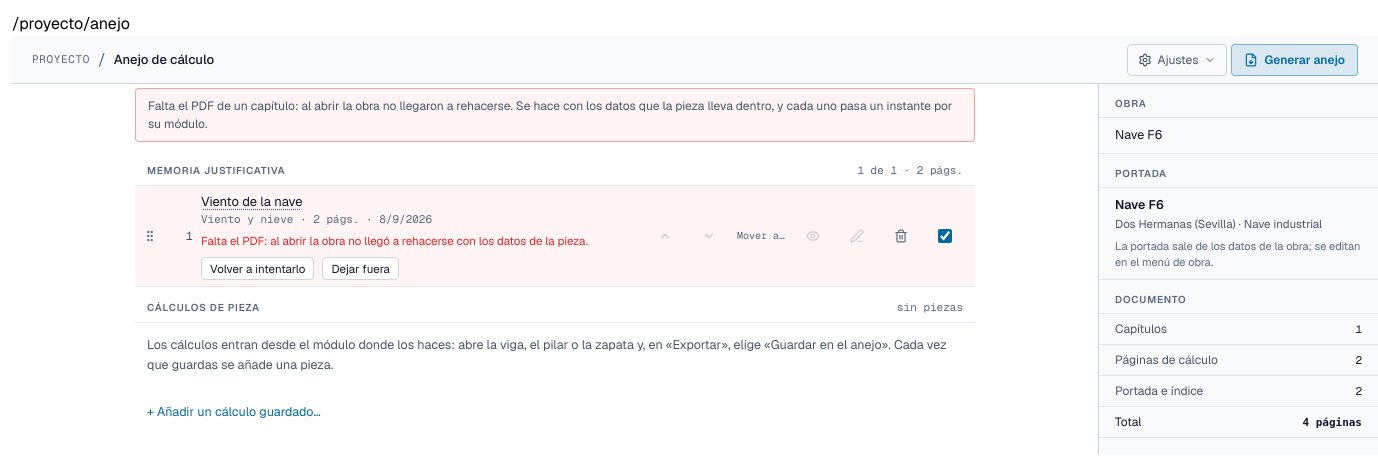
Test: abrir un cálculo del anejo en su módulo › un capítulo de memoria lleva a su módulo sin restaurar nada
What coordinates should you click on to do the following:
click the button "Viento de la nave"
I would click on:
 (252, 201)
Its box is [201,192,302,211].
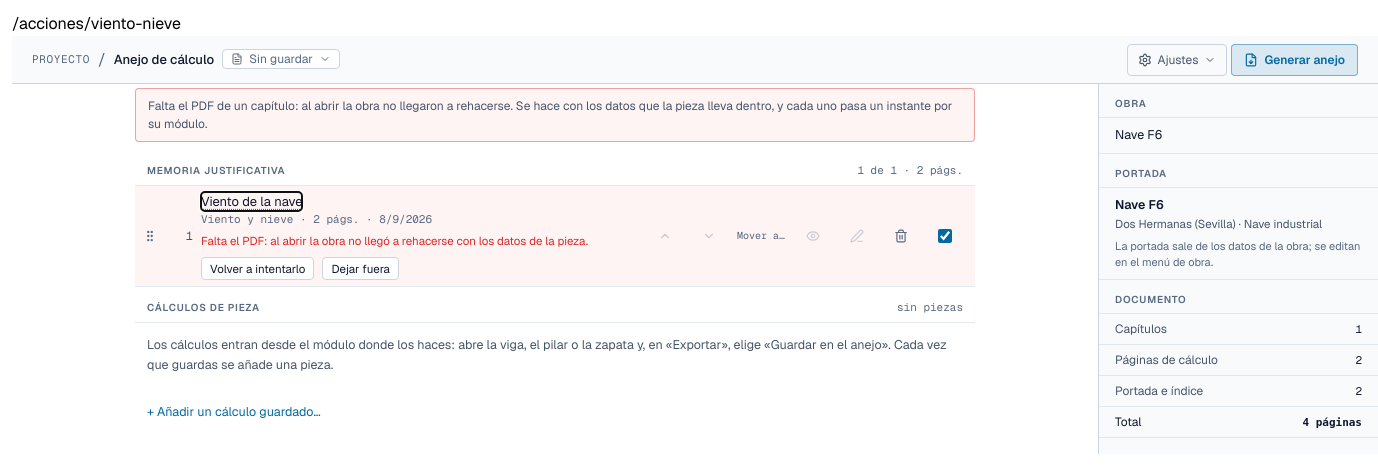
Now the text with test id "ruta" reads "/acciones/viento-nieve", box [12,13,181,34]
